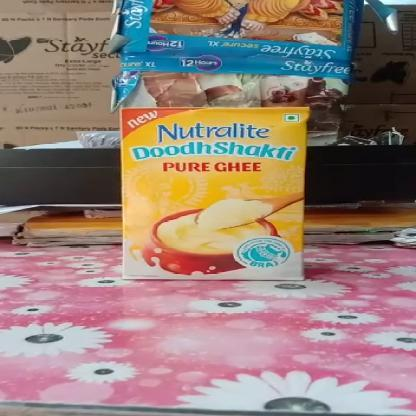Nutralite DOODHSHAKTHI PURE GHEE 1L: (119, 107, 306, 276)
